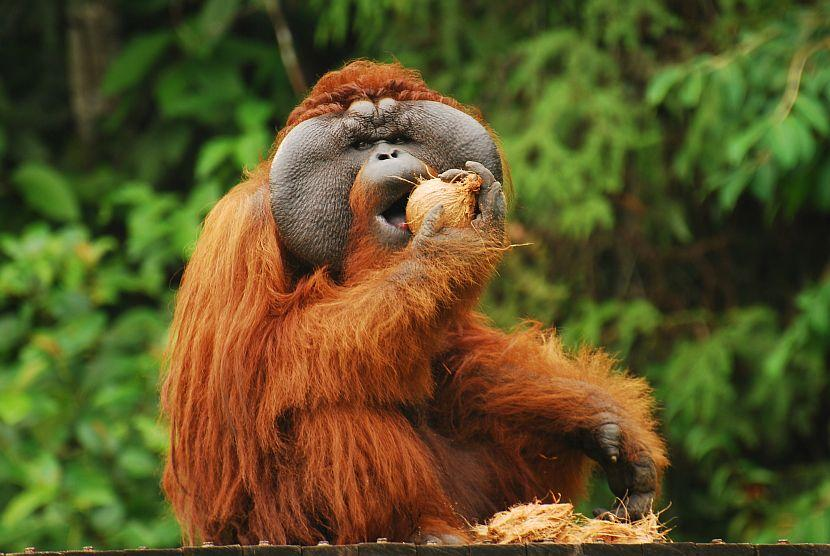Orangutan: (172, 64, 601, 536)
